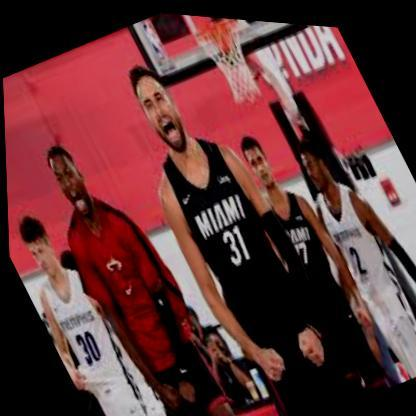rim: (188, 12, 247, 56)
